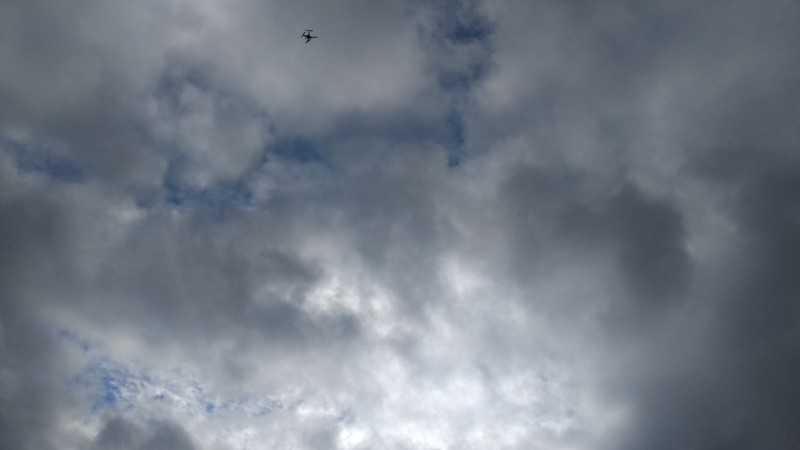drone: (300, 30, 318, 44)
